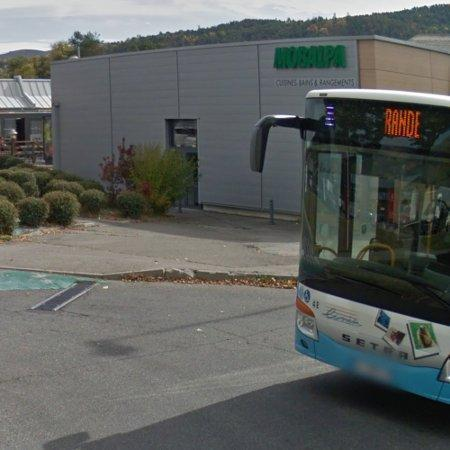buses: (252, 90, 450, 404)
